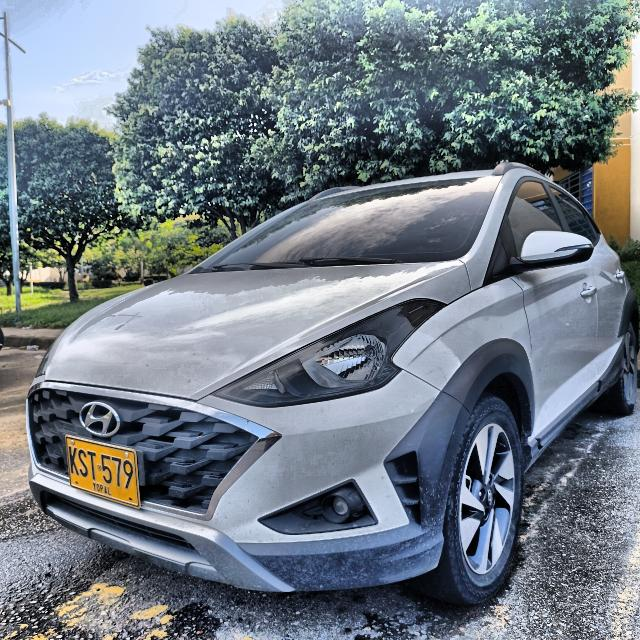plate: (66, 436, 139, 508)
